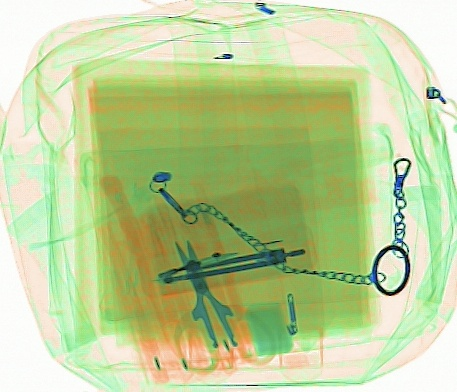scissors: (171, 238, 278, 376)
